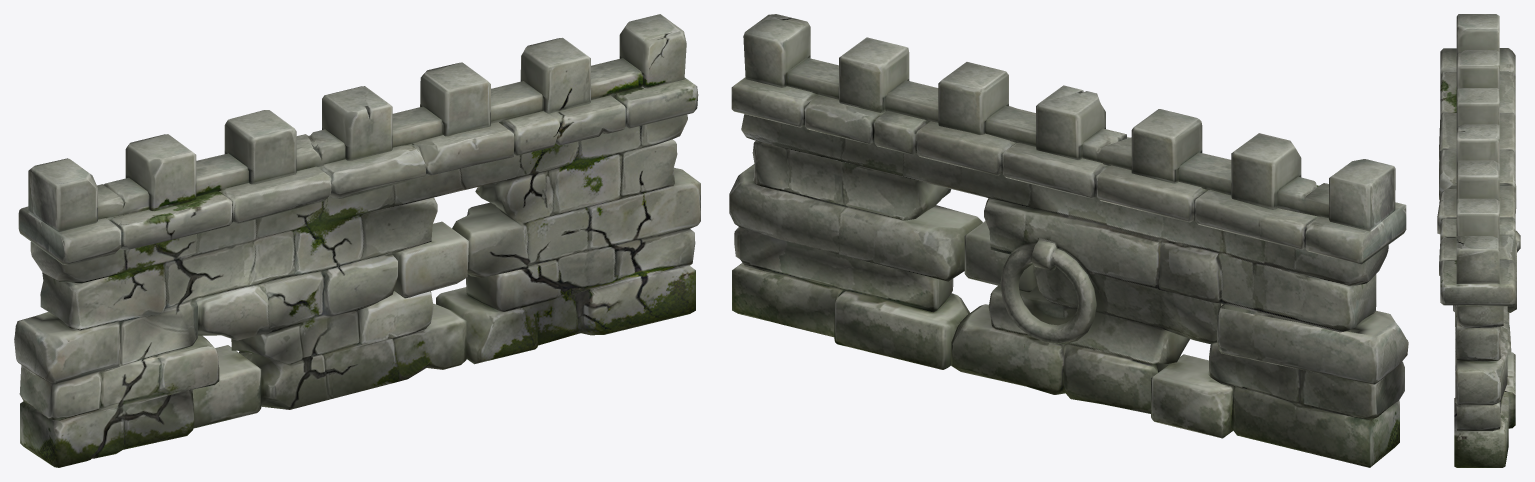
File: wall_straight.glb
3 views of the same model, side by side, from view 1: azimuth 30°, elevation 25°; view 2: azimuth 150°, elevation 25°; view 3: azimuth 270°, elevation 25° (orthographic). The views are drawn at different scales.
Visible parts, largest first — view 1: wall_straight; view 2: wall_straight; view 3: wall_straight.
Boxes of the visible parts, left/top/right/bottom form: wall_straight: left=14, top=14, right=700, bottom=467; wall_straight: left=729, top=14, right=1408, bottom=467; wall_straight: left=1437, top=14, right=1520, bottom=467.
Size of the model in its own units: 0.9995 by 0.4092 by 0.1431.
1 material, 1 textured.
